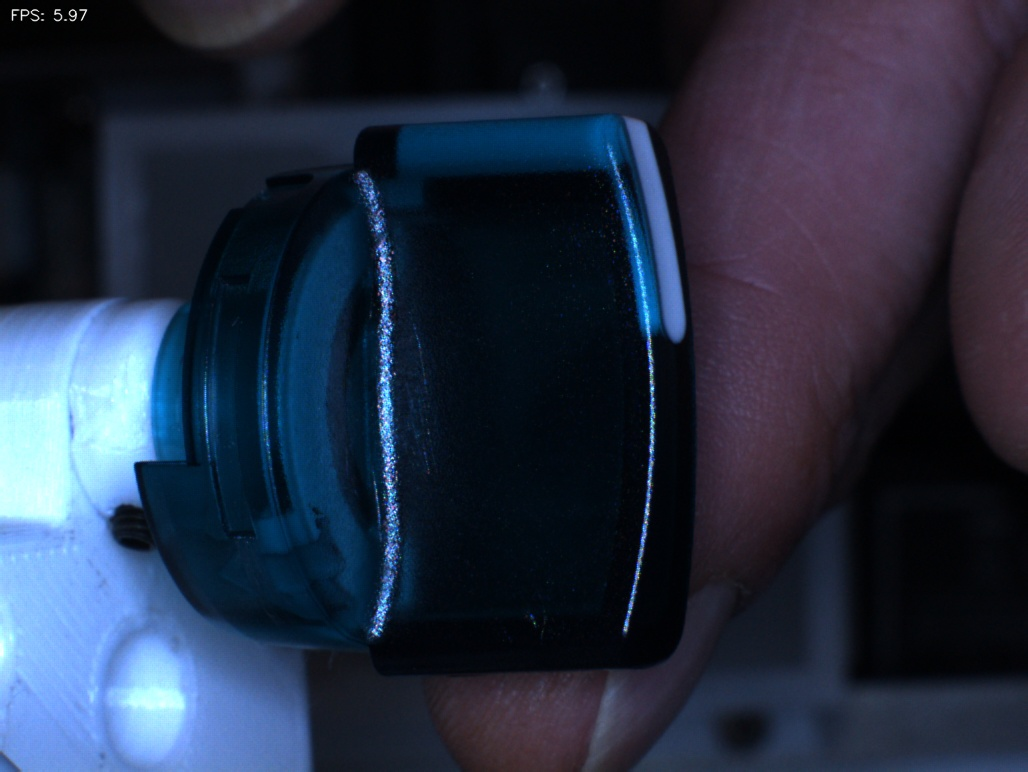Givrage: (397, 308, 454, 485), (504, 570, 569, 651)
